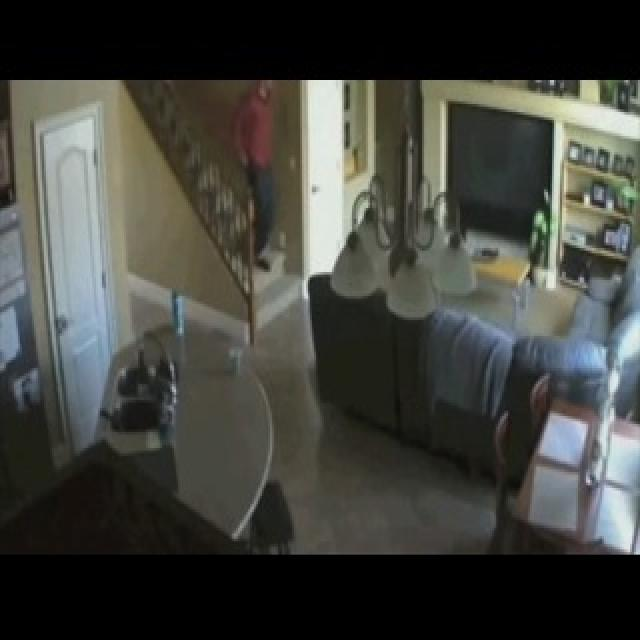thief: (230, 80, 300, 203)
